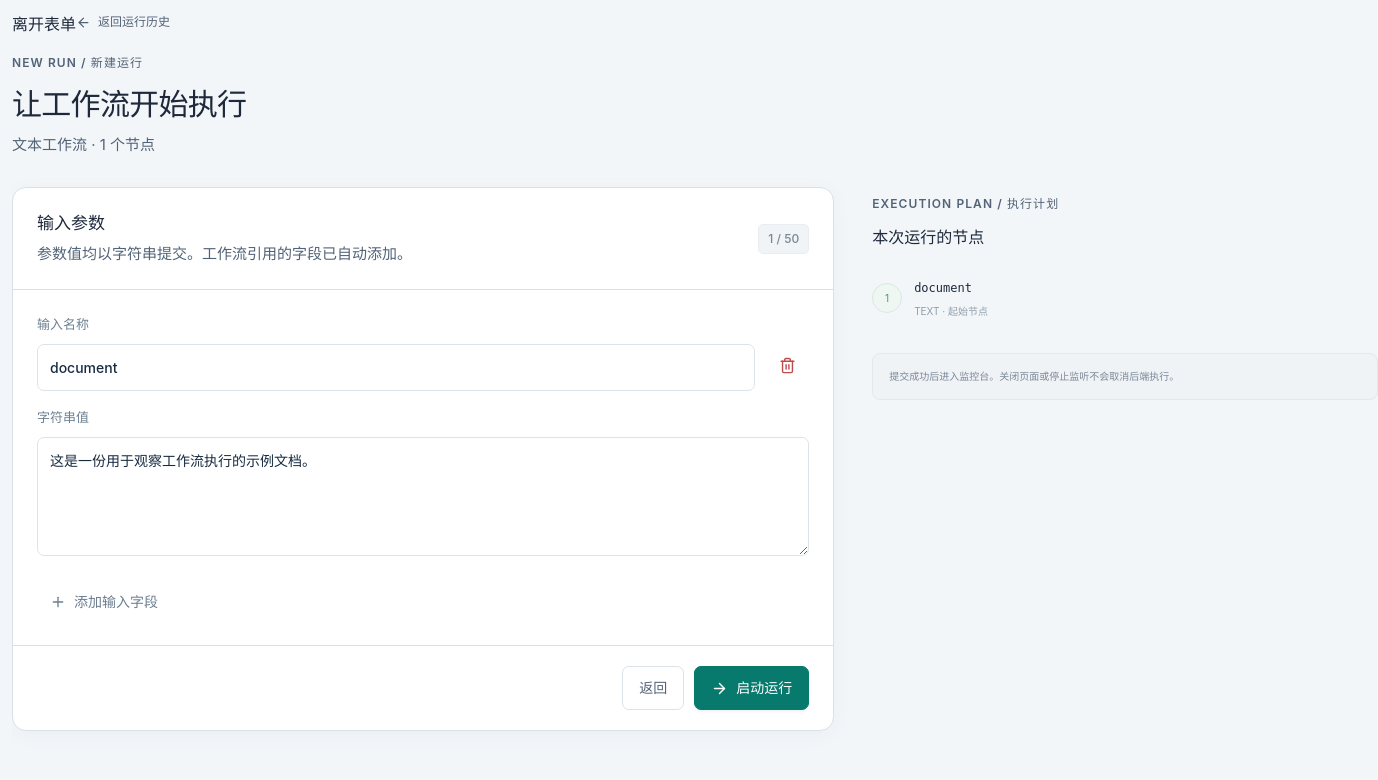
Scenario: 新运行交互 › 删除必需输入后阻止提交并给出原因
This screenshot has width=1378, height=780.
Expected: the text box named "输入值 1" is shown, [37,437,809,556]
Click the button named "删除输入 1".
click(787, 366)  # box [765,344,809,388]
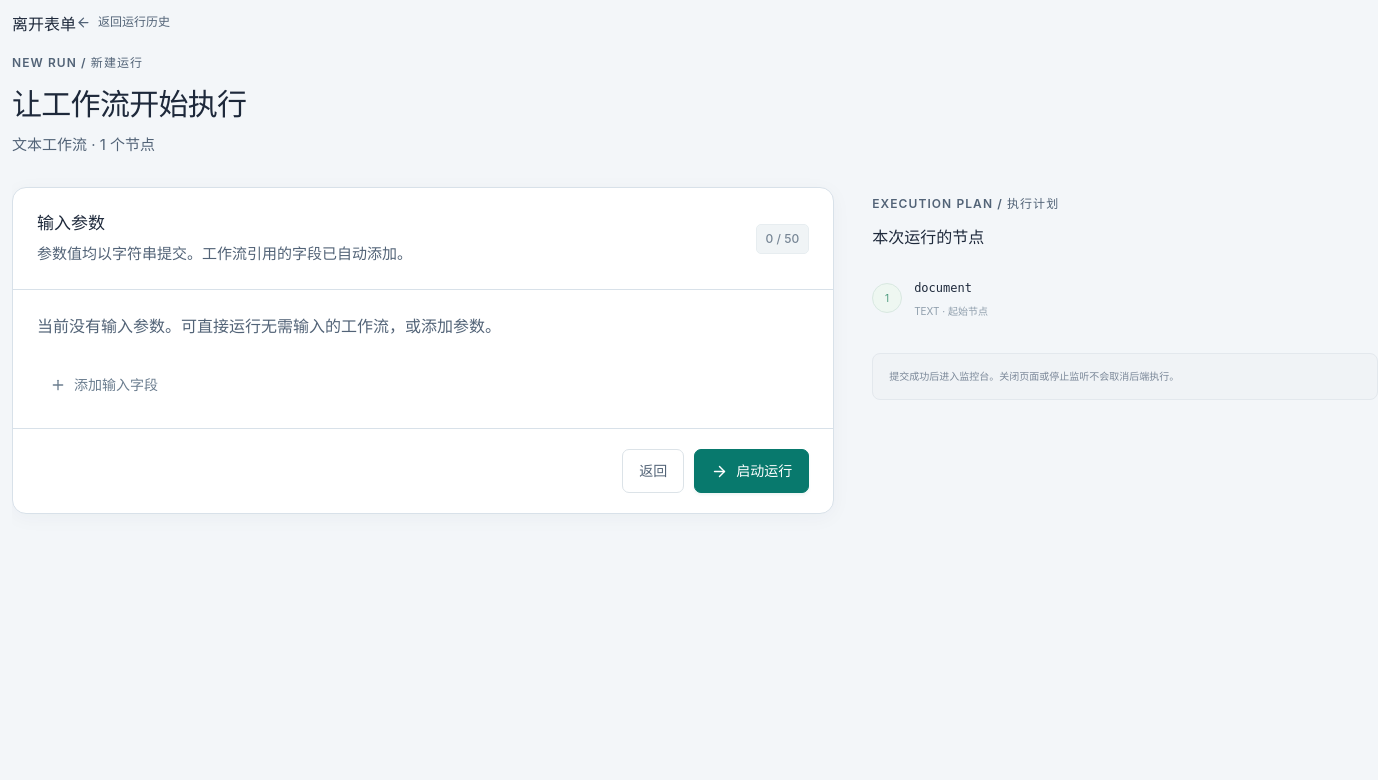
Click the button "启动运行".
click(752, 471)  # box [694,449,809,493]
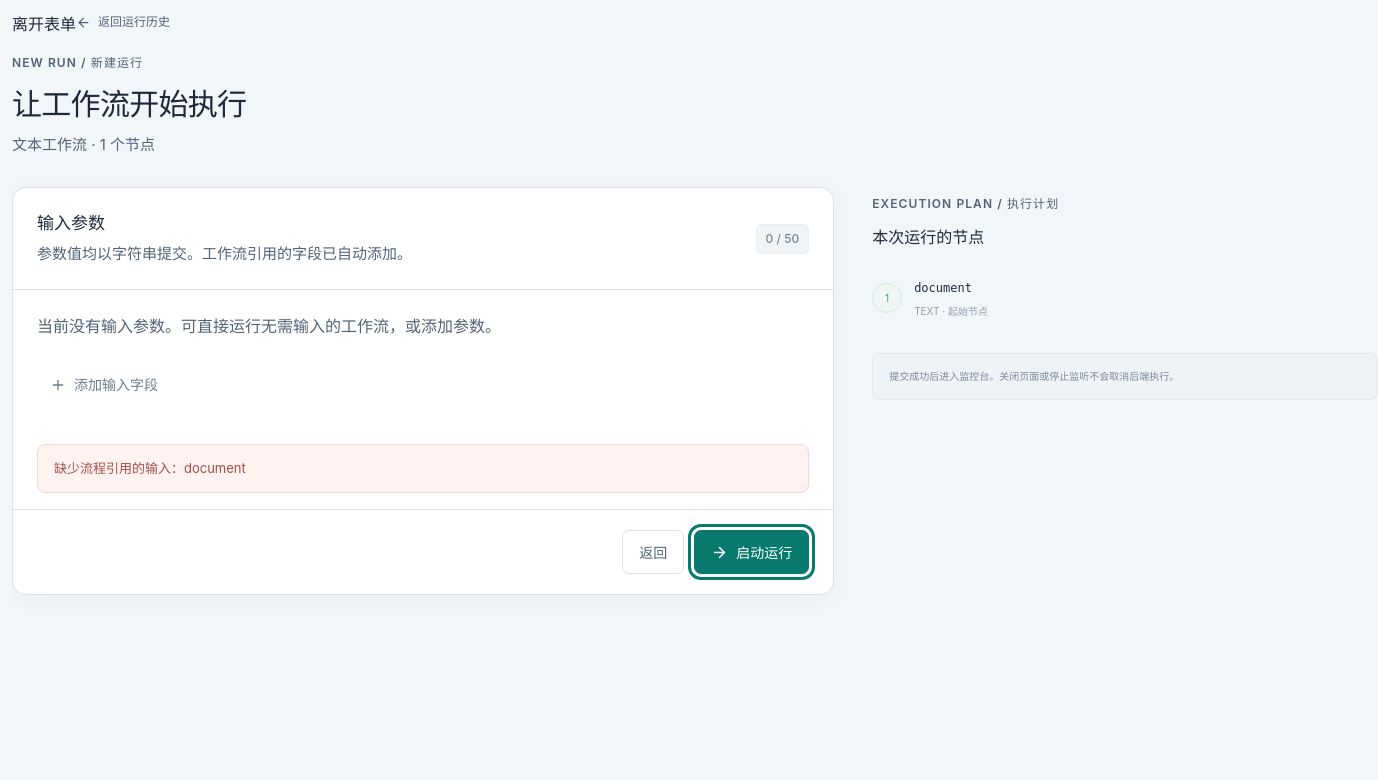
Expected: the message shows "document", [54,460,246,476]
